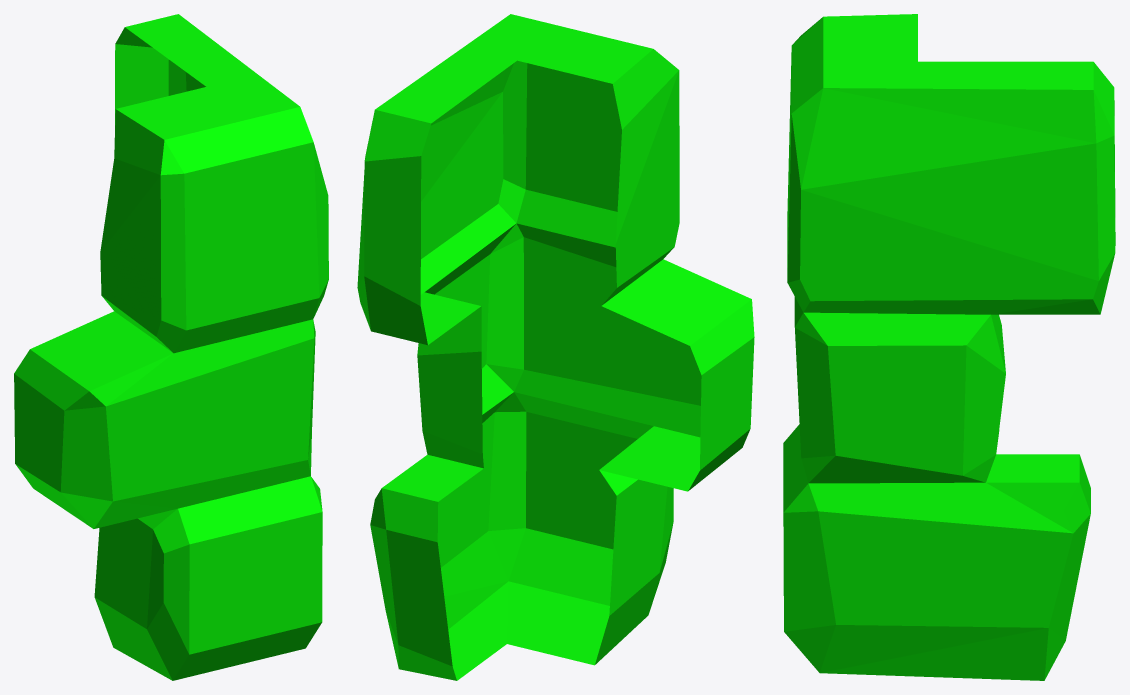
Rendered from SM_Wall_Decor_Corner_Stone_Out_1m.fbx.
3 views of the same model, side by side, from view 1: azimuth 30°, elevation 25°; view 2: azimuth 150°, elevation 25°; view 3: azimuth 270°, elevation 25° (orthographic). The views are drawn at different scales.
Visible parts, largest first — view 1: wall-decor-corner-stone-out-1m; view 2: wall-decor-corner-stone-out-1m; view 3: wall-decor-corner-stone-out-1m.
Part boxes in pixels (box(x1,y1,x2,y2)): wall-decor-corner-stone-out-1m: box(14, 14, 328, 680); wall-decor-corner-stone-out-1m: box(357, 14, 754, 680); wall-decor-corner-stone-out-1m: box(783, 14, 1115, 680).
Bounding box in the file's own units: 0.4964 × 1.03 × 0.5268.
